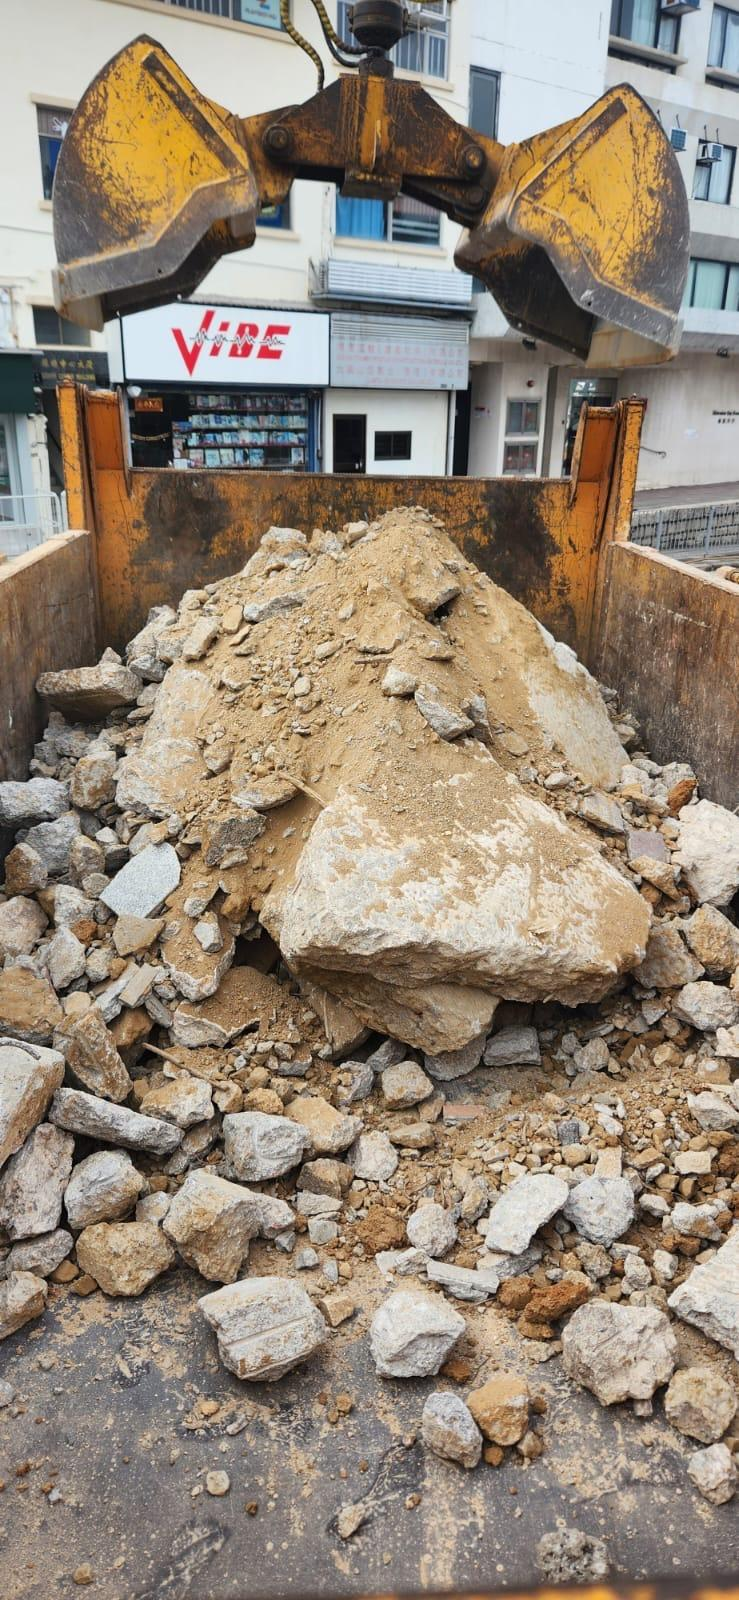dry: (22, 520, 730, 1367)
